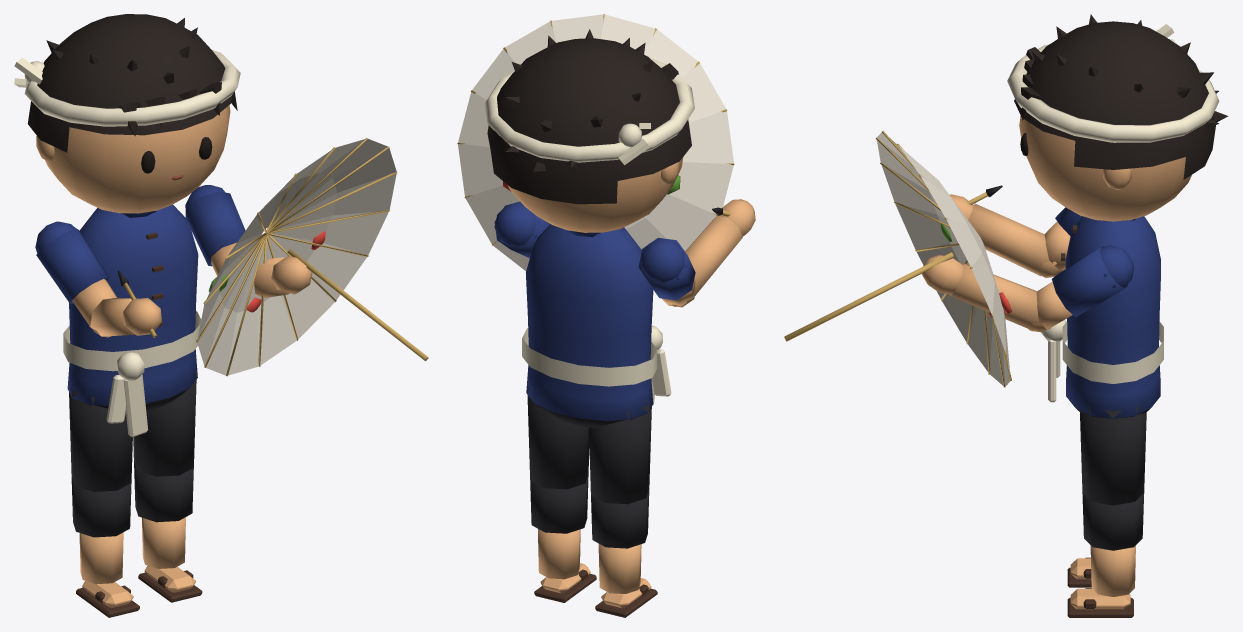
File: north_umbrella_painter.glb
3 renders of one model, left to right at view 1: azimuth 30°, elevation 25°; view 2: azimuth 150°, elevation 25°; view 3: azimuth 270°, elevation 25°, orthographic. The views are drawn at different scales.
Visible parts, largest first — view 1: head, prop_paper_umbrella, body, shin_L, shin_R, leg_R, arm_R, leg_L, arm_L, forearm_R, forearm_L; view 2: head, body, prop_paper_umbrella, shin_L, shin_R, leg_R, leg_L, forearm_R, arm_R, arm_L; view 3: head, body, prop_paper_umbrella, shin_L, leg_L, arm_L, forearm_L, forearm_R, arm_R, shin_R.
Part boxes in pixels (x1,y1,x2,y2): head: [14, 14, 240, 213]; prop_paper_umbrella: [196, 137, 428, 376]; body: [63, 204, 201, 437]; shin_L: [134, 461, 202, 602]; shin_R: [71, 477, 139, 617]; leg_R: [69, 387, 132, 491]; arm_R: [35, 221, 117, 337]; leg_L: [133, 371, 196, 476]; arm_L: [185, 185, 245, 275]; forearm_R: [89, 297, 161, 336]; forearm_L: [254, 255, 312, 297]; head: [484, 29, 694, 232]; body: [522, 224, 671, 427]; prop_paper_umbrella: [457, 14, 734, 270]; shin_L: [530, 474, 596, 602]; shin_R: [591, 489, 657, 617]; leg_R: [589, 401, 651, 504]; leg_L: [527, 386, 589, 489]; forearm_R: [661, 199, 755, 306]; arm_R: [638, 237, 695, 307]; arm_L: [494, 201, 549, 258]; head: [1007, 14, 1228, 221]; body: [1041, 216, 1163, 418]; prop_paper_umbrella: [784, 131, 1012, 387]; shin_L: [1067, 493, 1144, 617]; leg_L: [1080, 406, 1146, 505]; arm_L: [1028, 245, 1134, 332]; forearm_L: [922, 254, 1050, 331]; forearm_R: [949, 194, 1062, 276]; arm_R: [1037, 207, 1081, 277]; shin_R: [1067, 557, 1091, 587].
Size of the model in its own units: 0.7983 by 1.48 by 1.05.
